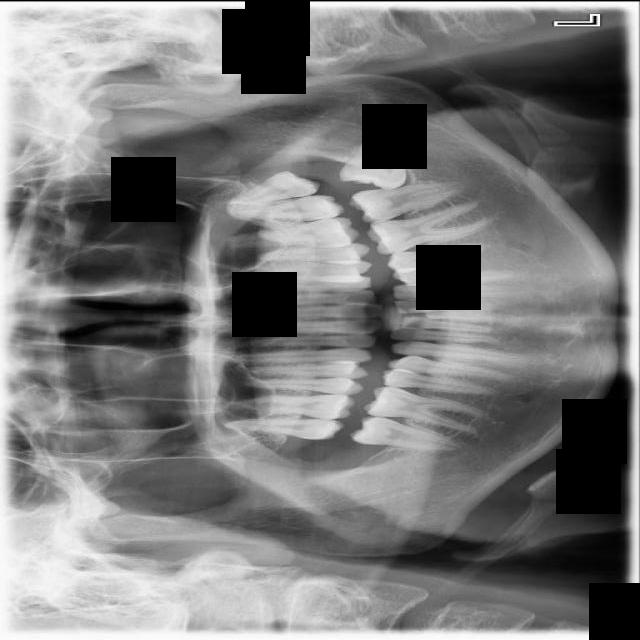73: (608, 14, 618, 22)
BioHorizons Implant: (228, 191, 346, 229)
BioLife Implant: (220, 162, 324, 216)
Biomet 3i Implant: (336, 127, 416, 194)
Blue Sky Bio Implant: (345, 176, 468, 226)
Caries: (223, 415, 347, 440)
Implant: (348, 412, 467, 455)
